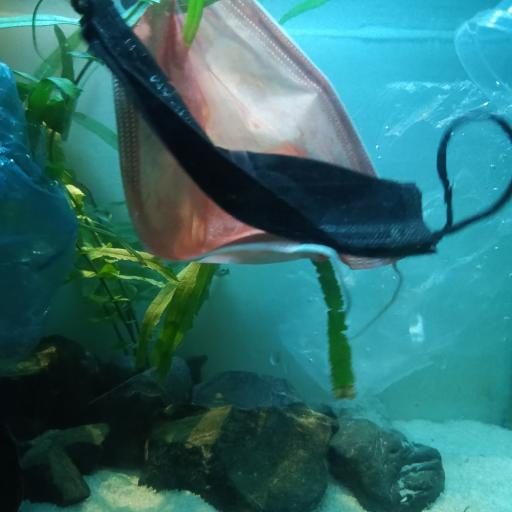mask: (74, 4, 512, 262), (116, 0, 403, 268)
plastic_bag: (275, 76, 512, 392), (0, 60, 83, 381)
plastic_cup: (453, 0, 512, 115)
